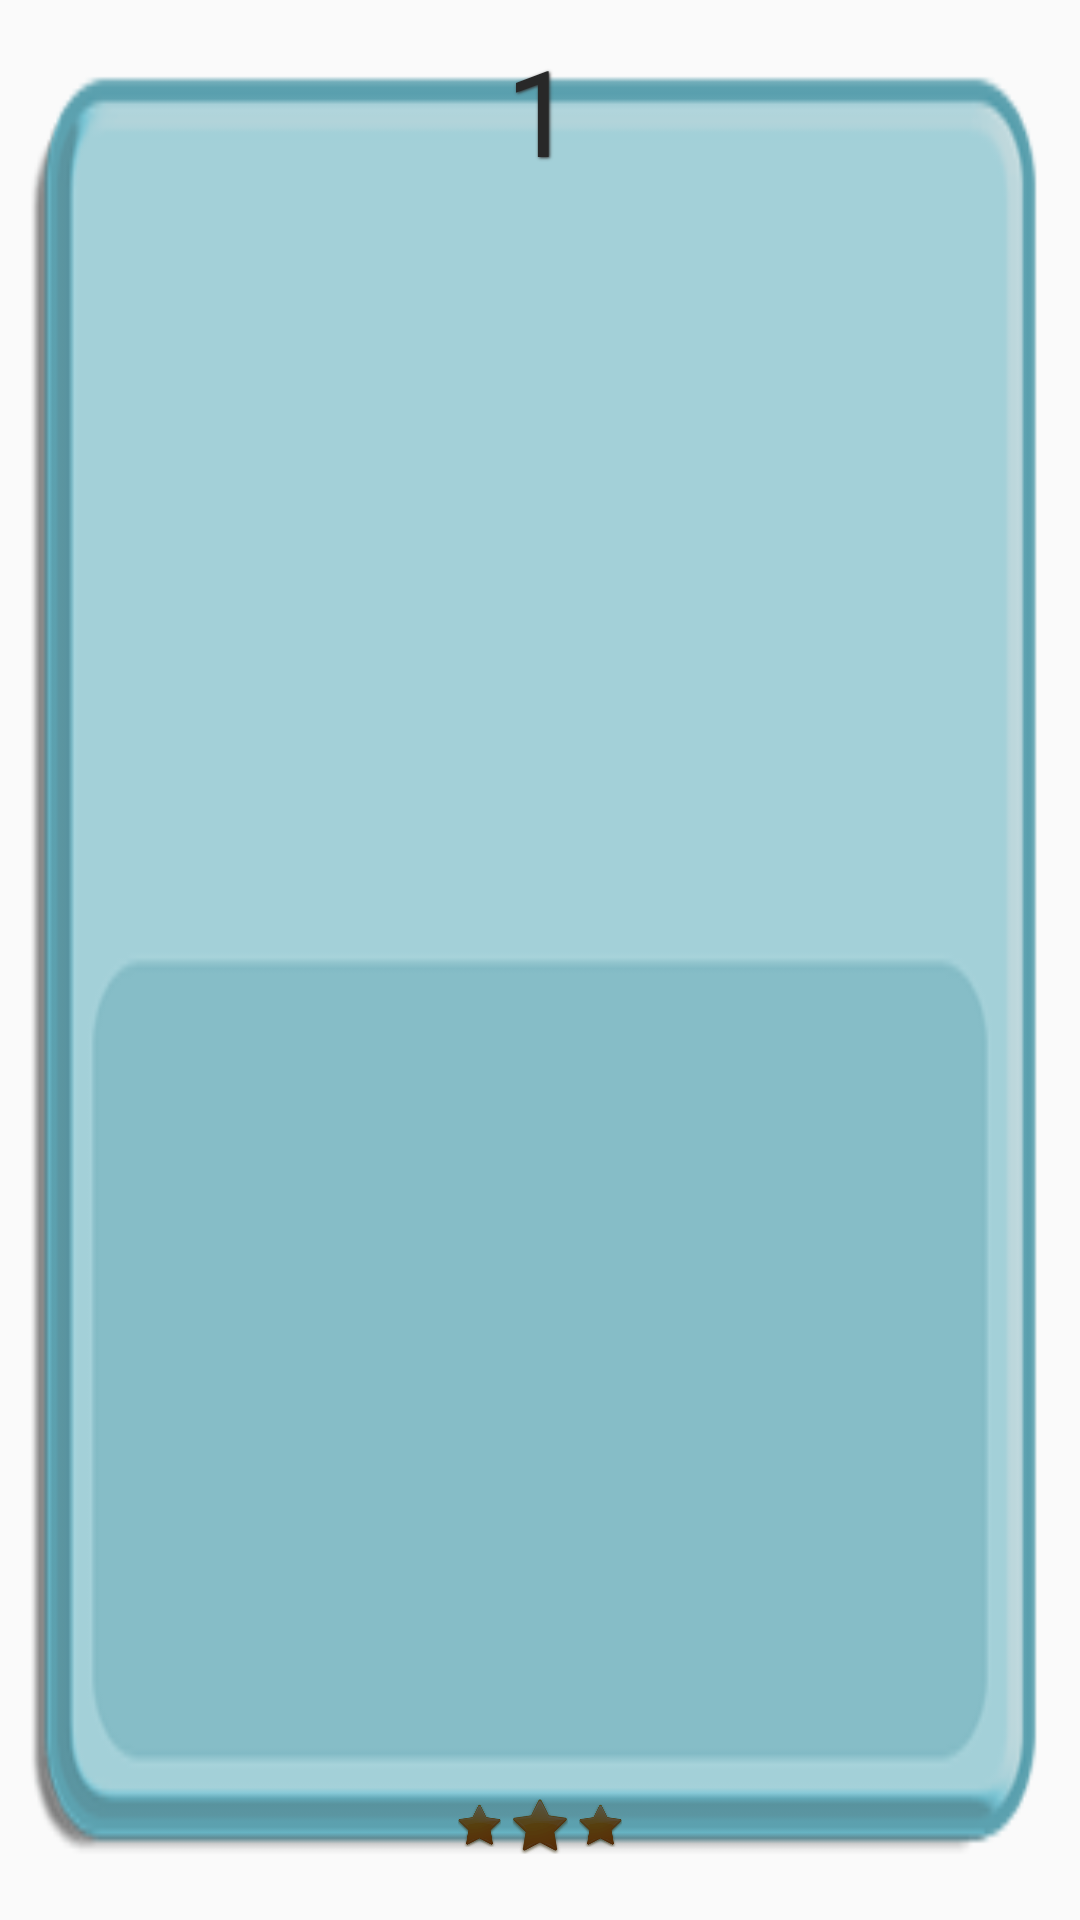

Icon click points for this 1080*1920 phone screenshot, format (x,y):
star: (540,1826), (479,1825), (600,1825)
